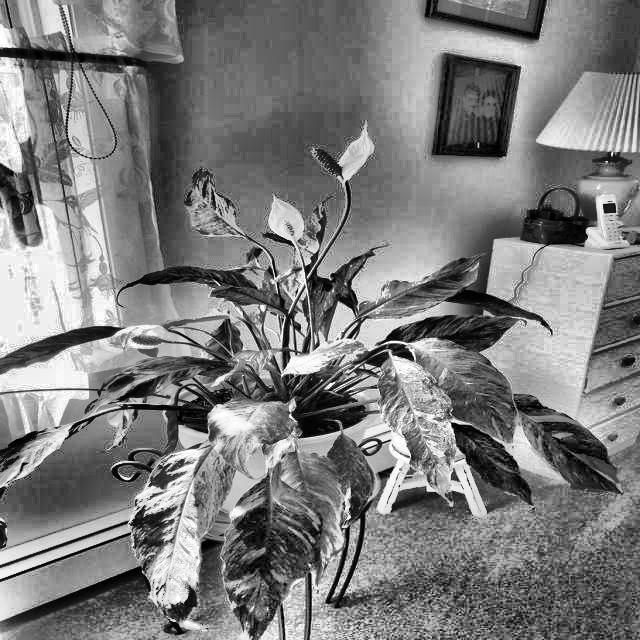plants: (49, 125, 620, 640), (0, 320, 368, 639)
